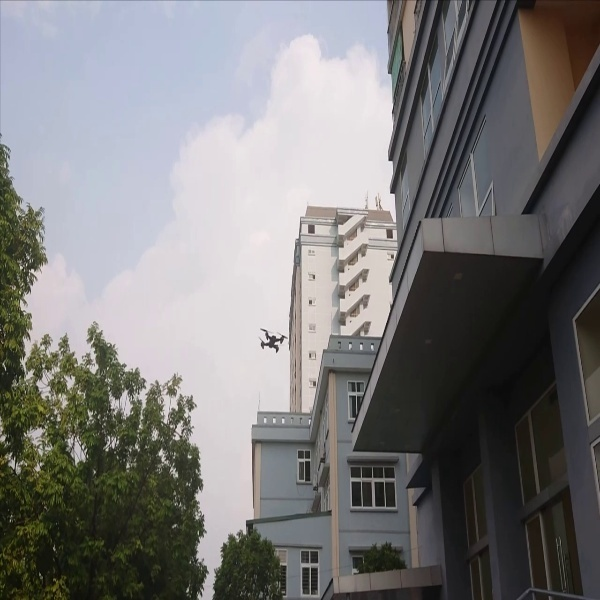drone: (251, 320, 296, 354)
